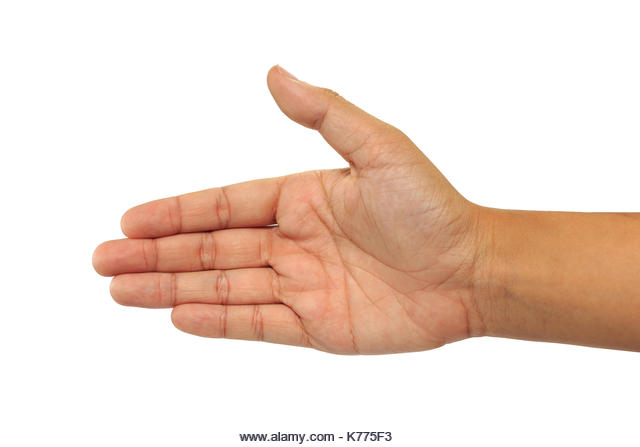hand: (76, 52, 505, 380)
